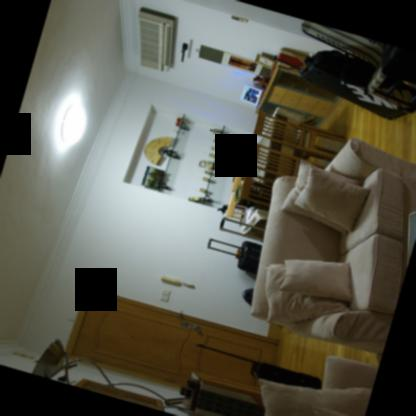suitcase: (300, 48, 416, 120), (197, 343, 322, 388), (205, 236, 262, 273)
